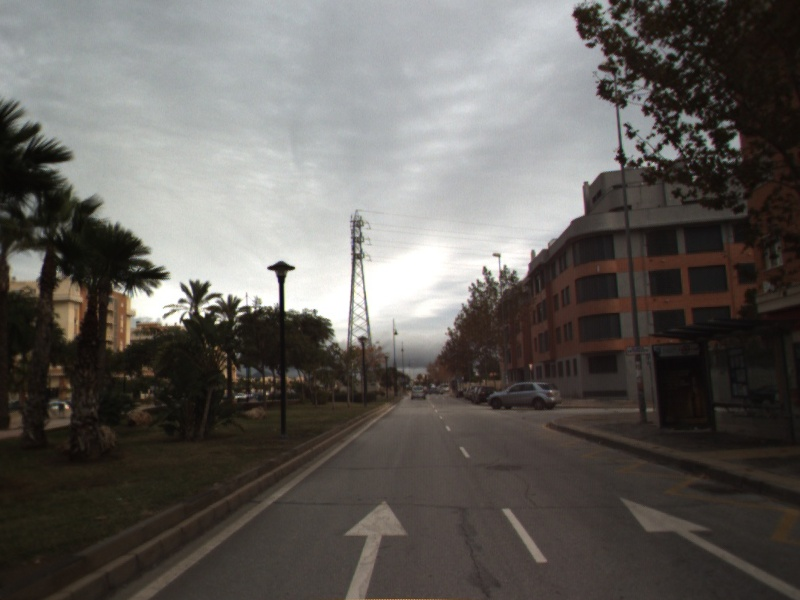STRAIGHT: (617, 495, 800, 600), (341, 497, 411, 600)
